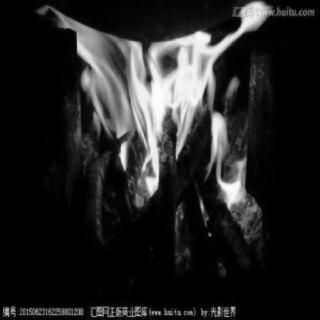Fire: (37, 0, 275, 268)
